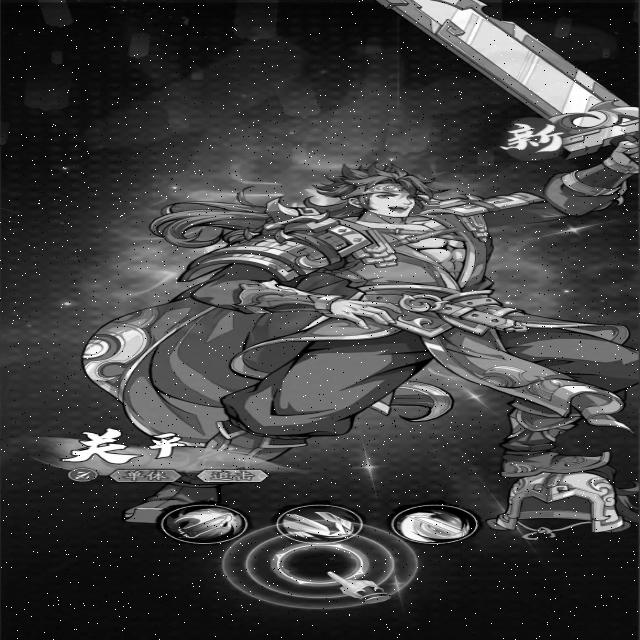hint-guide: (215, 519, 427, 611)
